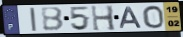5: (68, 6, 91, 31)
A: (119, 6, 143, 29)
B: (40, 6, 66, 32)
H: (90, 4, 118, 32)
I: (28, 7, 38, 33)
O: (141, 5, 166, 29)
